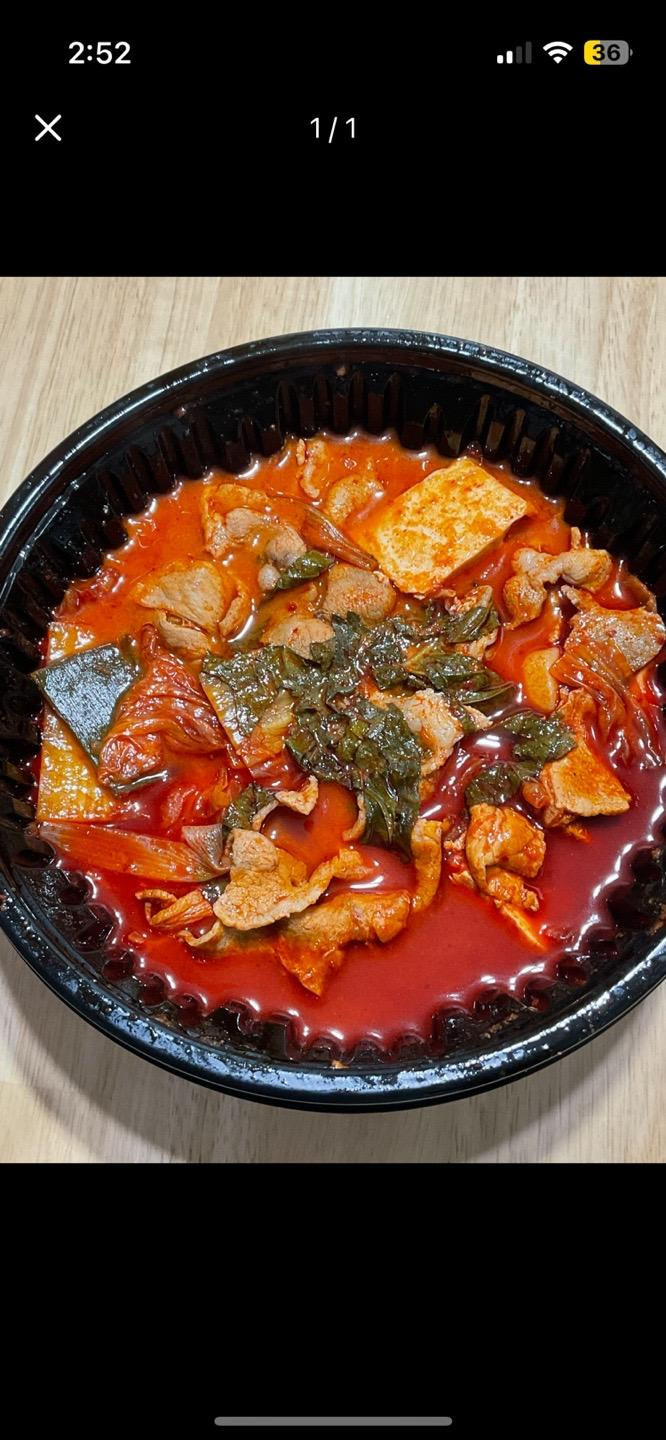Lunch Box: (0, 330, 665, 1110)
